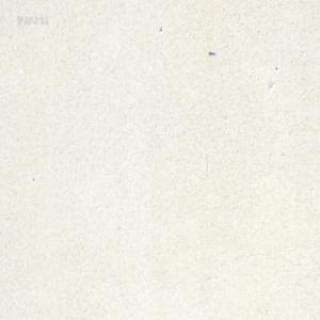Nailtrack_idkeyframe: (208, 49, 215, 55)
